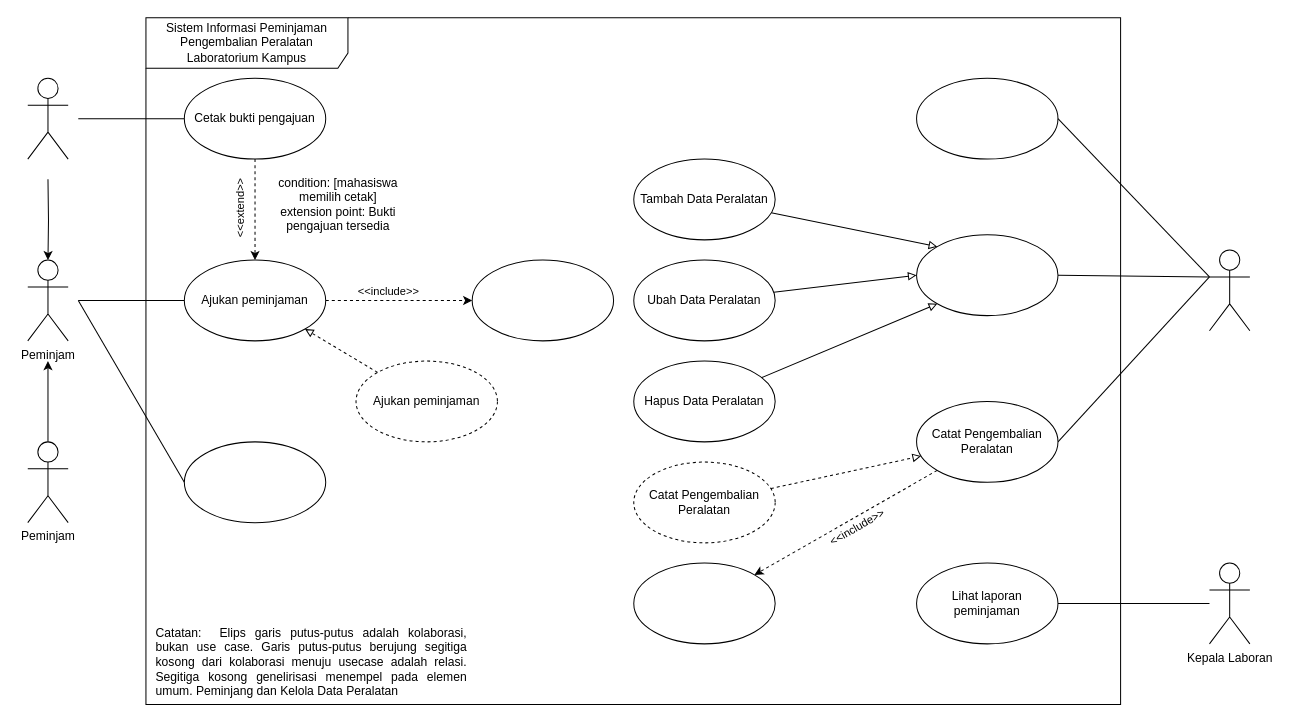
This 1293x722 diagram has some shape labels left out. Here are the shapes that lost their labels. From the top down, the centre of each, then its label:
pixel 47 118: Mahasiswa
pixel 987 118: Proses Keputusan Pemijaman
pixel 987 275: Kelola data peralatan
pixel 1229 290: Petugas Laboran
pixel 542 300: Periksa ketersediaan
pixel 254 482: Lihat ketersediaan peralatan
pixel 704 603: Periksa Kondisi Peralatan
